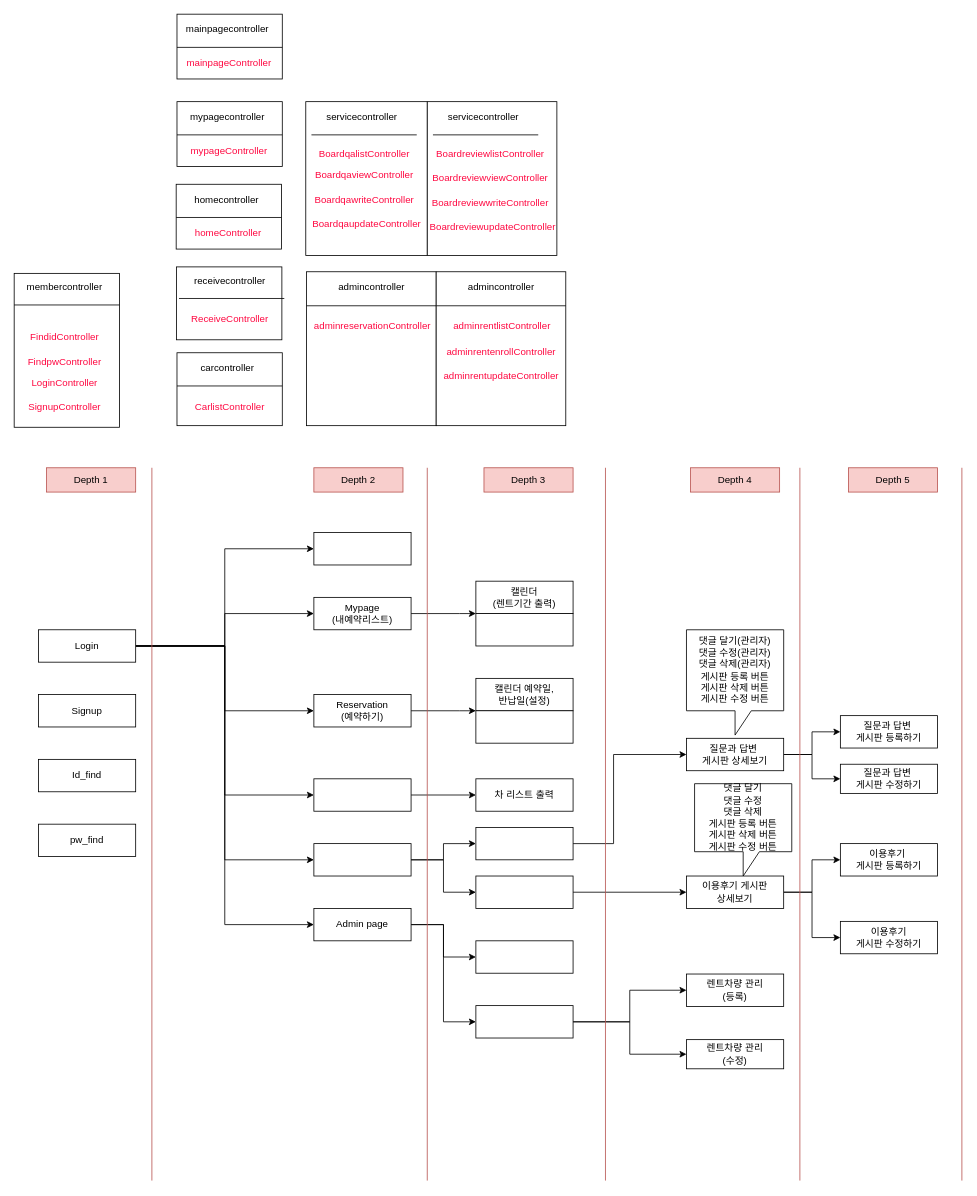
The diagram is 977 pixels wide and 1196 high, and some of its shapes have lost their labels. Each missing label, with the centre of its shape:
Car info: point 362,794
Home(default) (배경화면): point 362,548
Service center: point 362,859
렌트차량 관리 (등록/삭제/수정): point 524,1021
렌트차량 확인: point 524,629
예약할 차량 등록: point 524,726
예약현황 리스트 (예약자 리스트) 출력: point 524,956
이용후기 게시판: point 524,891
질문과 답변 게시판: point 524,843
